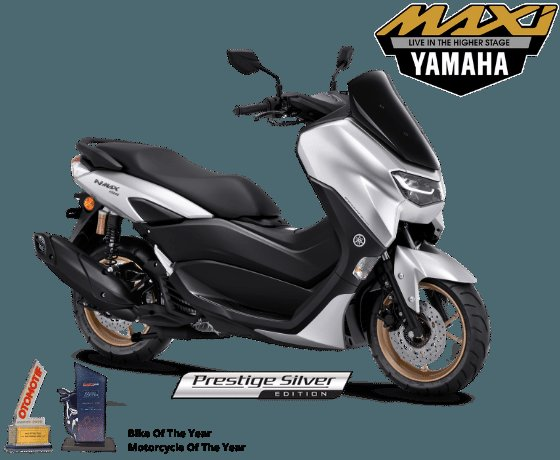motor: (40, 66, 501, 399)
